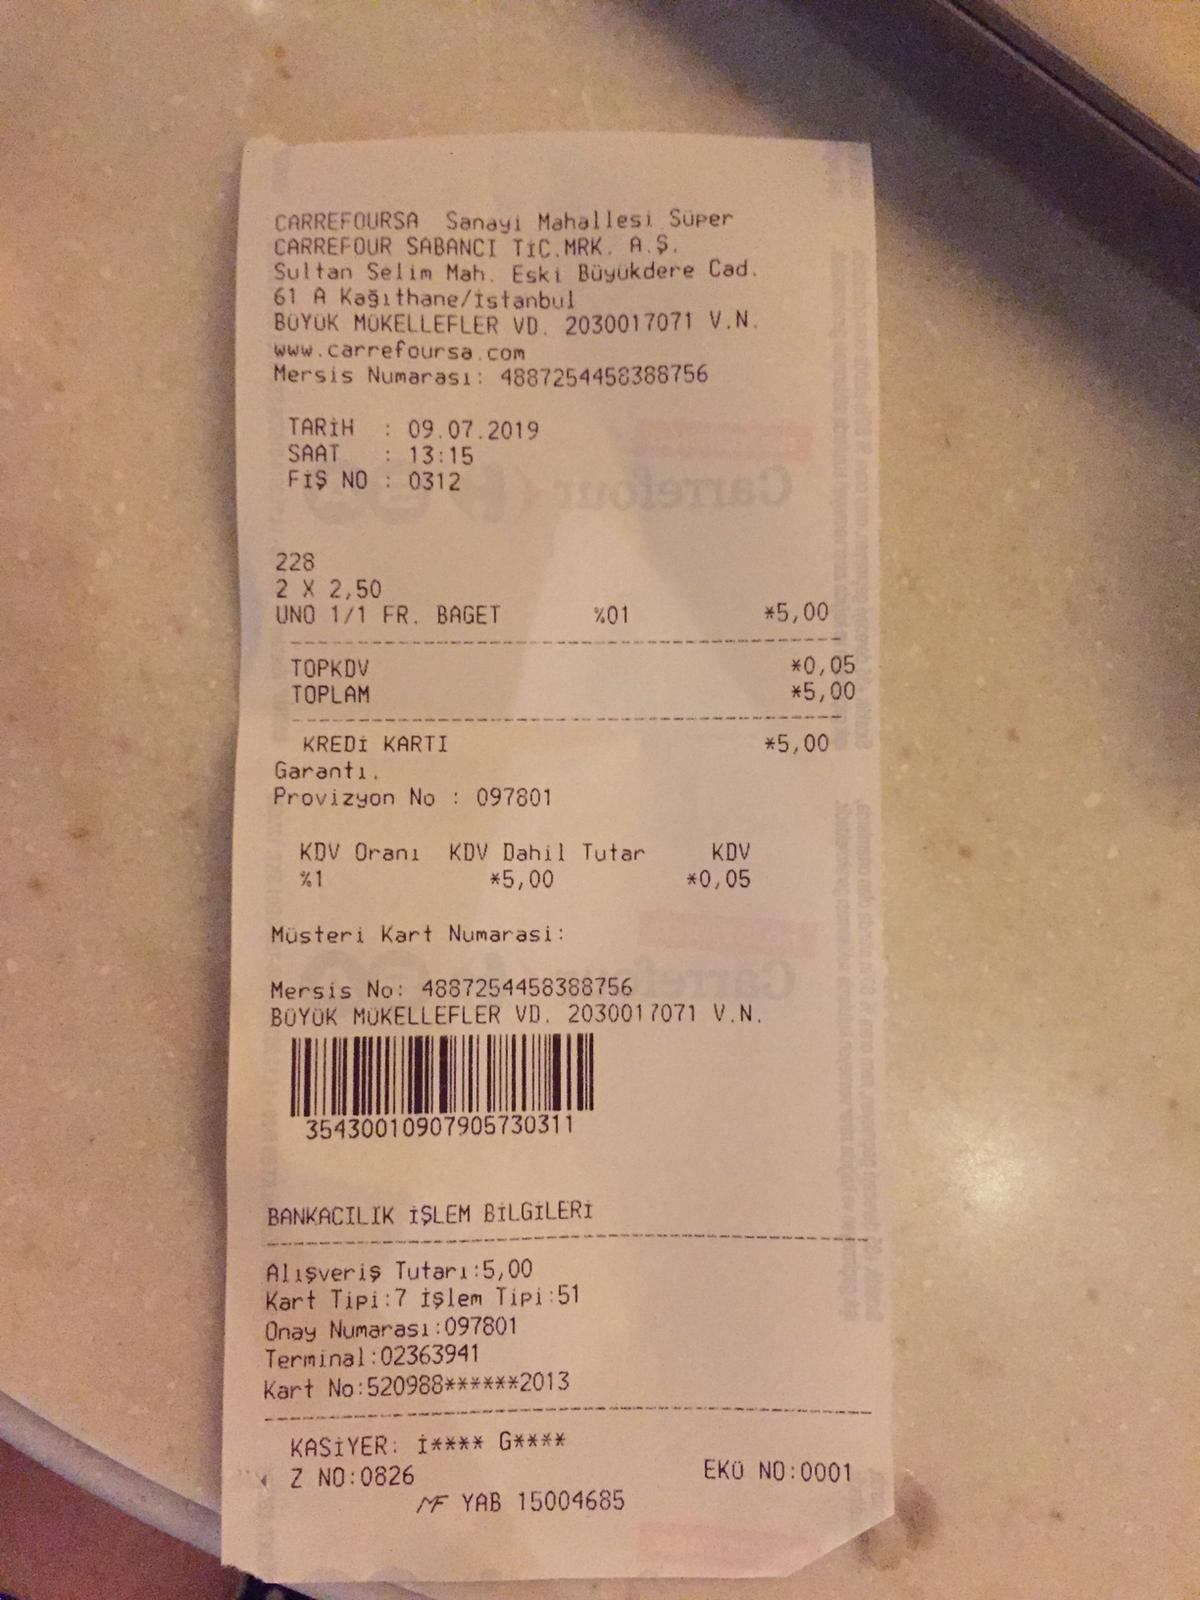total: (289, 679, 863, 711)
